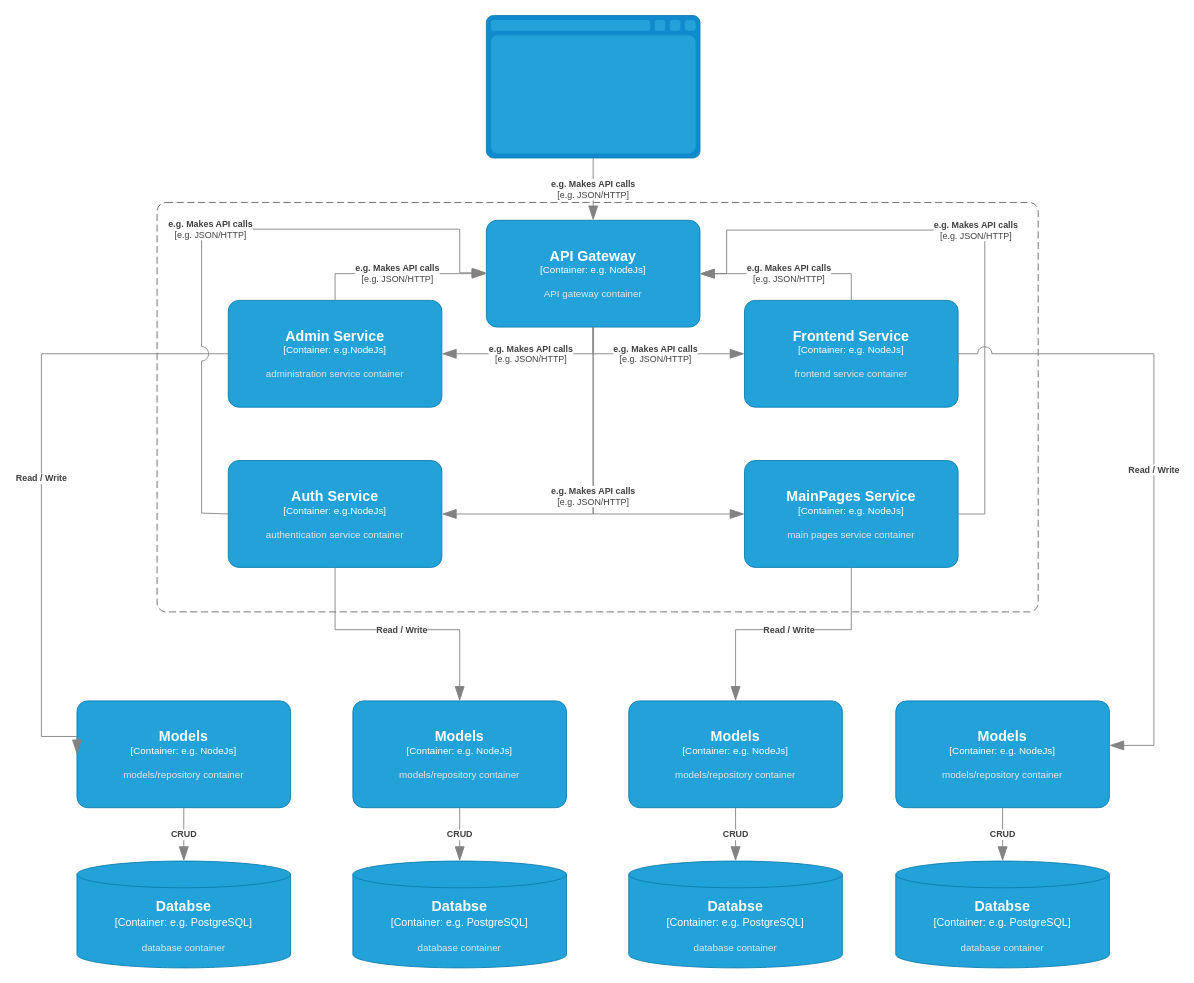
This 1194x983 diagram has some shape labels left out. The box of each missing label's shape, as (x1, y1, x2, y2) in pixels:
Client Browser [Container: e.g. JavaScript, HTML, CSS] web browser container: (485, 15, 700, 158)
System [ACVIS System]: (156, 202, 1038, 612)
